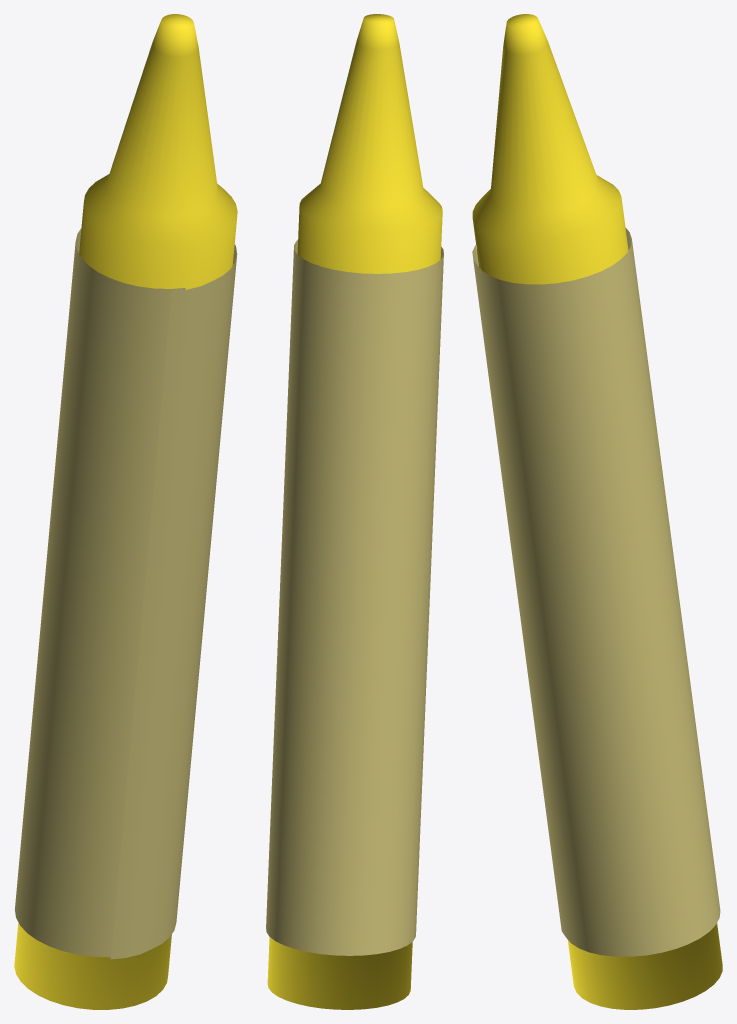
3 renders of one model, left to right at view 1: azimuth 30°, elevation 25°; view 2: azimuth 150°, elevation 25°; view 3: azimuth 270°, elevation 25°, orthographic. The views are drawn at different scales.
Visible parts, largest first — view 1: Yellow_Wrapper; view 2: Yellow_Wrapper; view 3: Yellow_Wrapper.
Boxes of the visible parts, x1,y1,x2,y2 form: Yellow_Wrapper: [14, 14, 237, 1009]; Yellow_Wrapper: [266, 14, 443, 1009]; Yellow_Wrapper: [472, 14, 722, 1009].
Bounding box in the file's own units: 0.1001 × 0.6153 × 0.1432.
